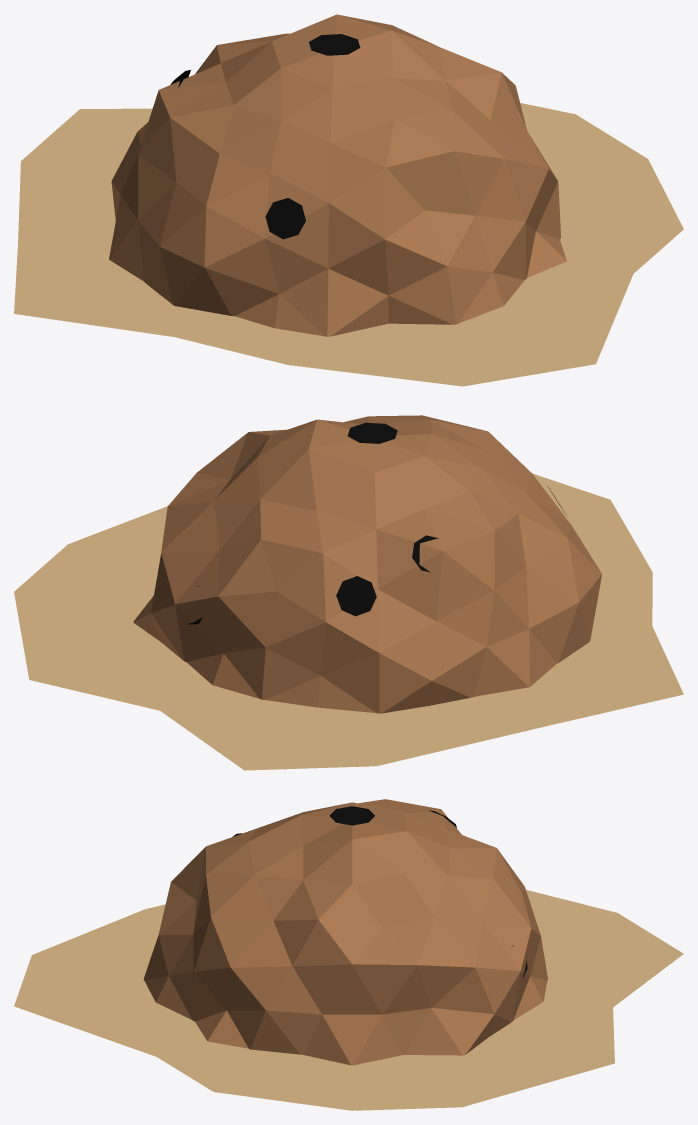
The model's file is DE_Habitat_AntMound.obj.
3 renders of one model, top to bottom at view 1: azimuth 30°, elevation 25°; view 2: azimuth 150°, elevation 25°; view 3: azimuth 270°, elevation 25°, orthographic. The views are drawn at different scales.
Parts seen in each view (by area): view 1: mound, sand_patch, hole_1, hole_top; view 2: mound, sand_patch, hole_0, hole_top; view 3: mound, sand_patch, hole_top.
Boxes of the visible parts, box(x1,y1,x2,y2) form: mound: box(109, 14, 566, 336); sand_patch: box(14, 103, 683, 386); hole_1: box(265, 198, 305, 239); hole_top: box(309, 34, 360, 55); mound: box(133, 415, 601, 713); sand_patch: box(14, 474, 683, 770); hole_0: box(336, 576, 376, 616); hole_top: box(347, 422, 397, 443); mound: box(143, 799, 547, 1065); sand_patch: box(14, 890, 683, 1110); hole_top: box(329, 806, 374, 825).
Size of the model in its own units: 19.17 by 5.56 by 20.44.
